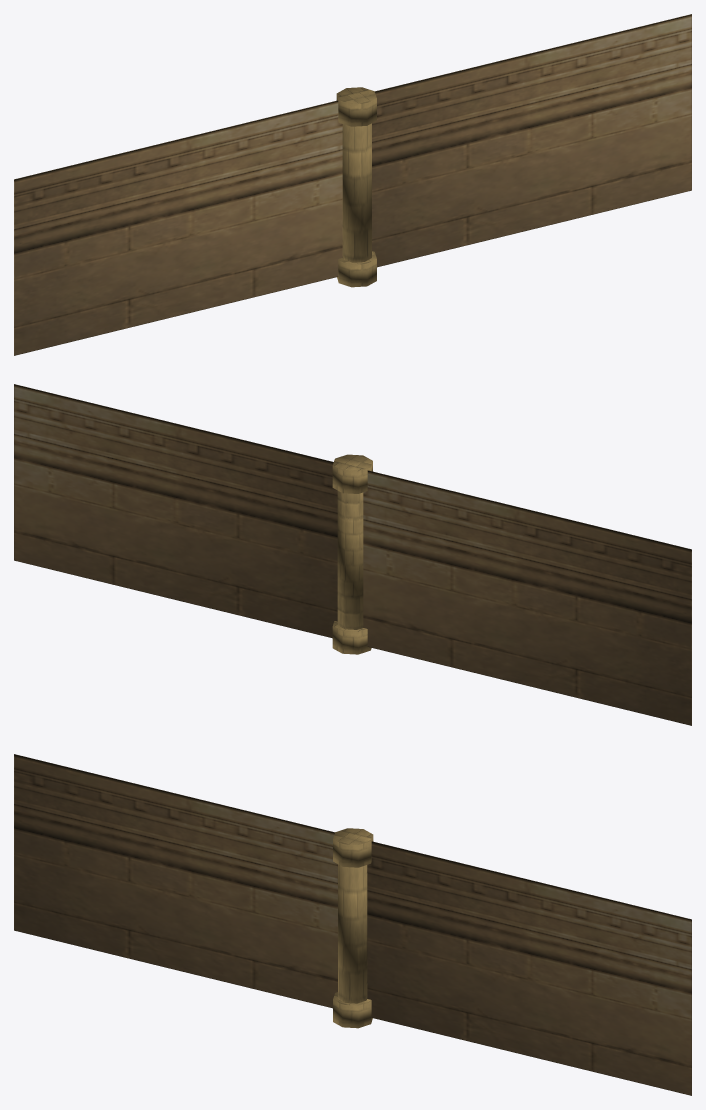
The model's file is Wall.glb.
3 renders of one model, top to bottom at view 1: azimuth 30°, elevation 25°; view 2: azimuth 150°, elevation 25°; view 3: azimuth 330°, elevation 25°, orthographic.
Parts seen in each view (by area): view 1: Plane.004; view 2: Plane.004; view 3: Plane.004.
Boxes of the visible parts, x1=… form: Plane.004: x1=14, y1=14, x2=691, y2=355; Plane.004: x1=14, y1=384, x2=691, y2=725; Plane.004: x1=14, y1=754, x2=691, y2=1095.
Bounding box in the file's own units: 579 × 150 × 30.73.
2 materials, 2 textured.
